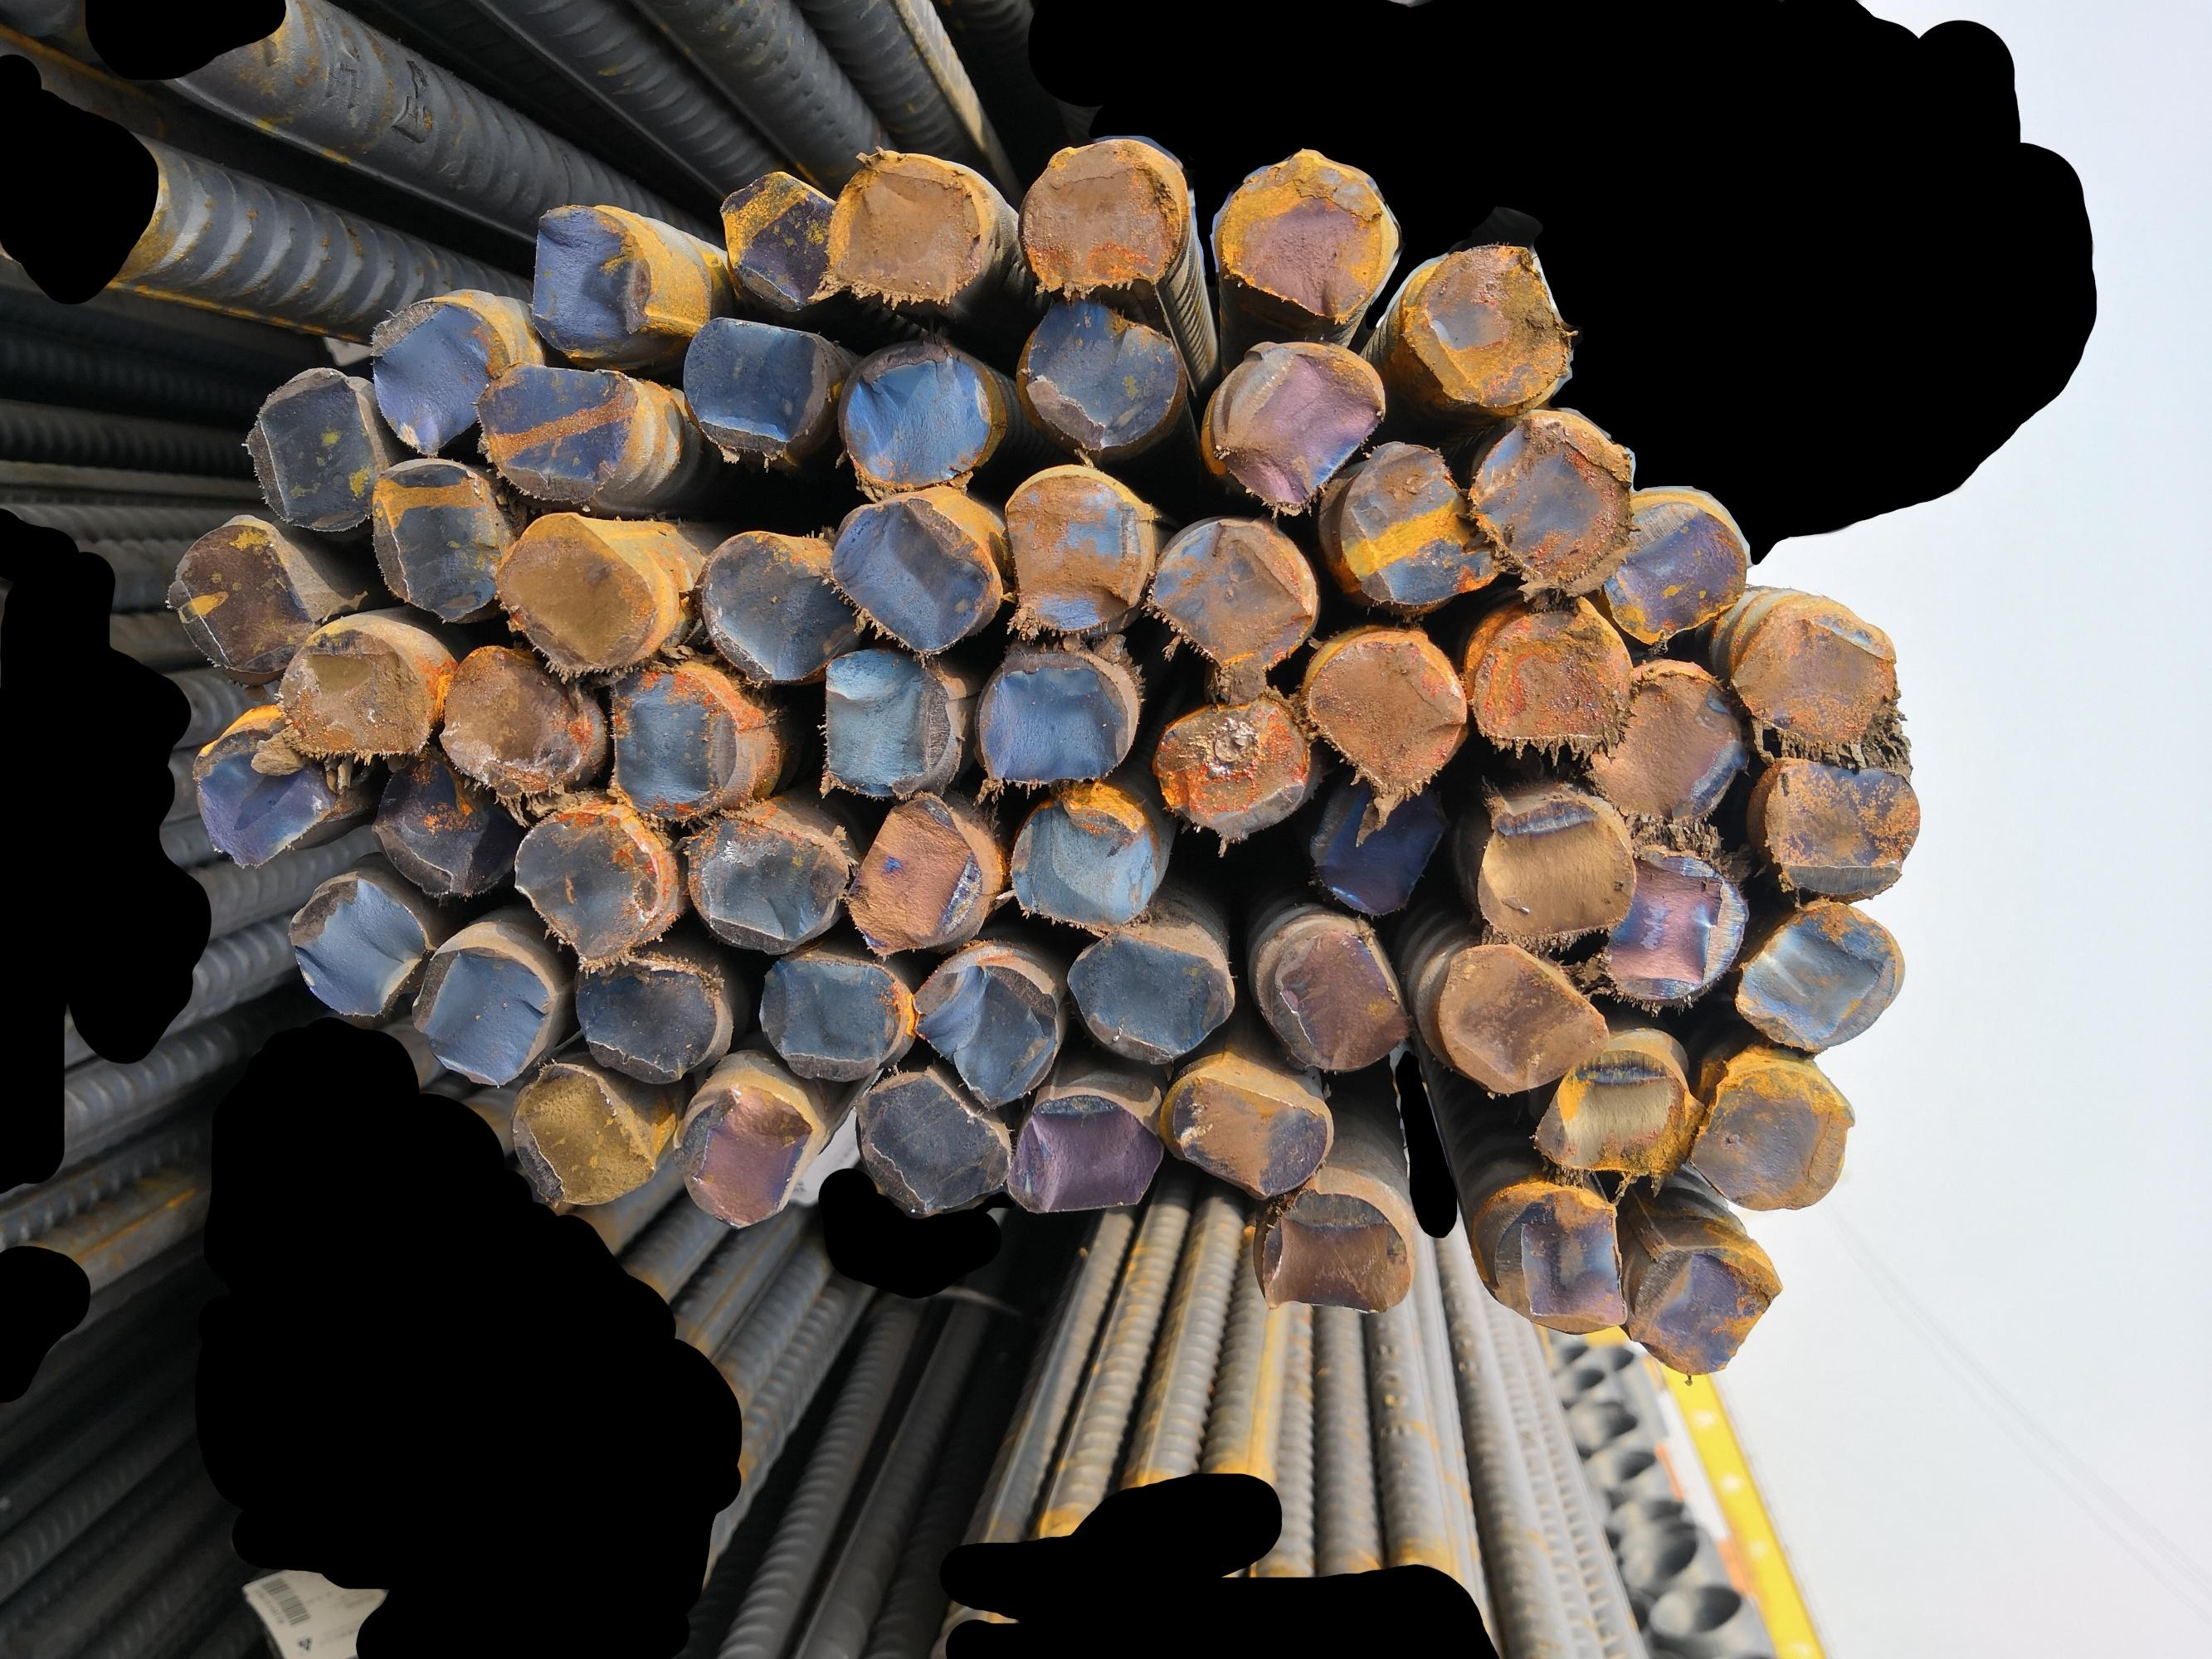bar: (1218, 146, 1400, 322), (1213, 333, 1391, 511), (1330, 430, 1503, 613), (1297, 622, 1469, 798), (1471, 410, 1633, 596), (1396, 240, 1571, 413), (1726, 586, 1905, 753), (1583, 647, 1748, 826), (1424, 939, 1611, 1098), (486, 511, 659, 676), (1729, 897, 1910, 1054), (1152, 683, 1323, 847), (1014, 134, 1194, 289), (1687, 1060, 1865, 1215), (1016, 291, 1185, 453), (1152, 512, 1320, 674), (819, 146, 985, 308), (826, 495, 992, 657), (1761, 748, 1926, 910), (235, 362, 390, 535), (689, 528, 865, 680), (499, 1049, 661, 1213), (1468, 596, 1633, 756), (368, 737, 521, 910), (511, 802, 668, 969), (366, 288, 518, 460), (1001, 462, 1149, 638), (277, 864, 432, 1030), (1598, 842, 1748, 1011), (1065, 925, 1238, 1072), (675, 308, 833, 467), (1473, 1183, 1632, 1342), (162, 518, 317, 680), (833, 336, 999, 488), (1473, 795, 1639, 946), (683, 805, 851, 955), (183, 711, 333, 877), (1598, 484, 1750, 647), (472, 352, 641, 497), (1157, 1072, 1332, 1211), (974, 647, 1140, 793), (1532, 1035, 1700, 1180), (410, 934, 561, 1093), (854, 1072, 1013, 1223), (603, 652, 744, 821), (844, 793, 985, 960), (364, 455, 504, 622), (1269, 911, 1408, 1079), (666, 1082, 819, 1234), (439, 643, 591, 796), (913, 957, 1062, 1114), (277, 624, 439, 767), (1006, 788, 1161, 936), (1248, 1182, 1410, 1319), (818, 645, 960, 800), (1630, 1234, 1781, 1378), (567, 948, 723, 1086), (758, 945, 915, 1082), (711, 155, 849, 310), (528, 197, 657, 362), (1304, 772, 1447, 918), (1004, 1091, 1164, 1216)
